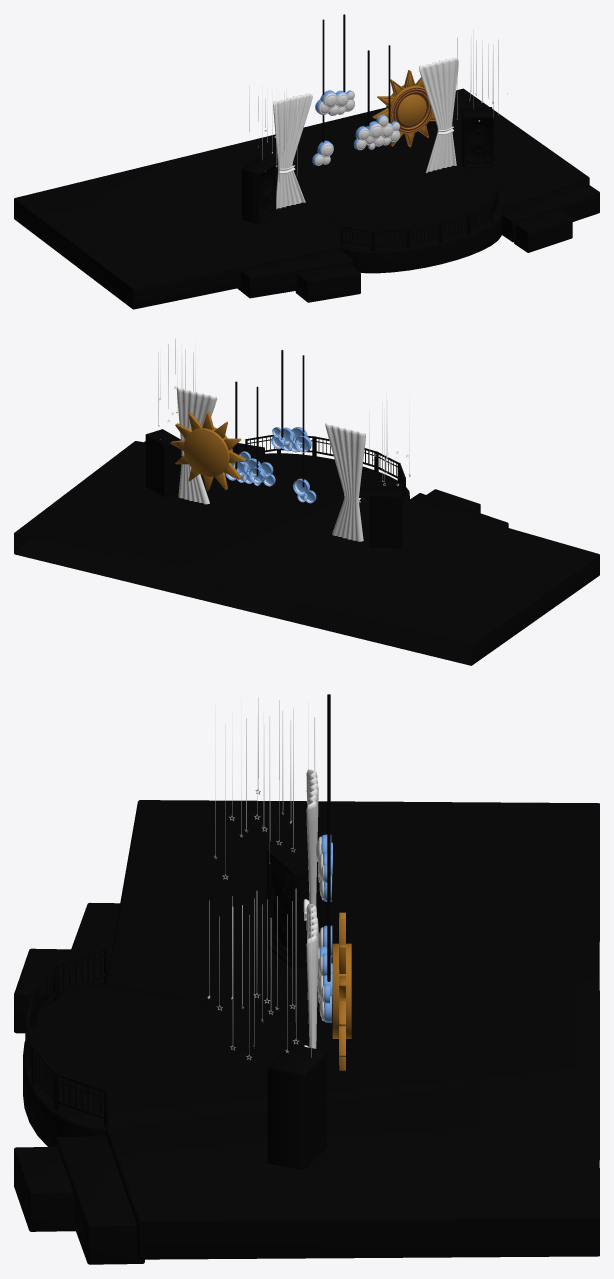
Rendered from Escenario.fbx.
3 renders of one model, top to bottom at view 1: azimuth 30°, elevation 25°; view 2: azimuth 150°, elevation 25°; view 3: azimuth 270°, elevation 25°, orthographic. The views are drawn at different scales.
Visible parts, largest first — view 1: Plane.007; view 2: Plane.007; view 3: Plane.007.
Boxes of the visible parts, <box> form: Plane.007: <box>14,14,599,309</box>; Plane.007: <box>14,338,599,665</box>; Plane.007: <box>14,694,599,1264</box>.
Bounding box in the file's own units: 1198 × 506 × 705.
